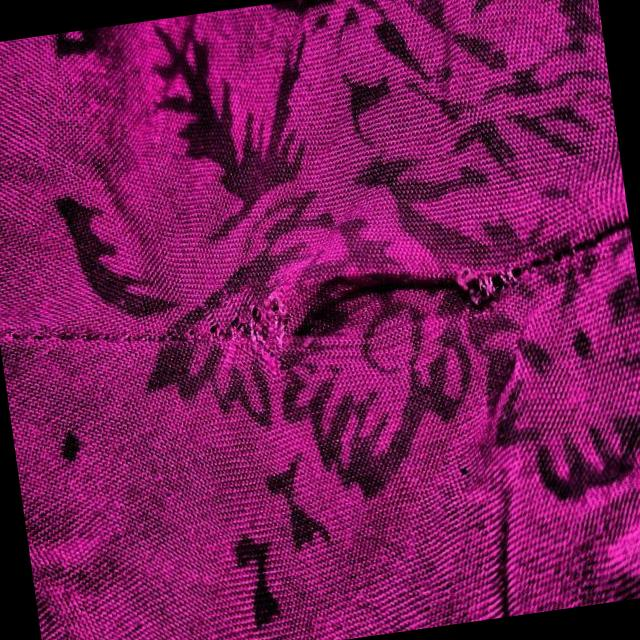gray stitch: (211, 224, 541, 426)
